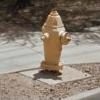Hydrant: (28, 5, 77, 82)
